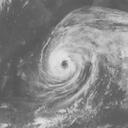cyclone: (37, 6, 121, 86)
